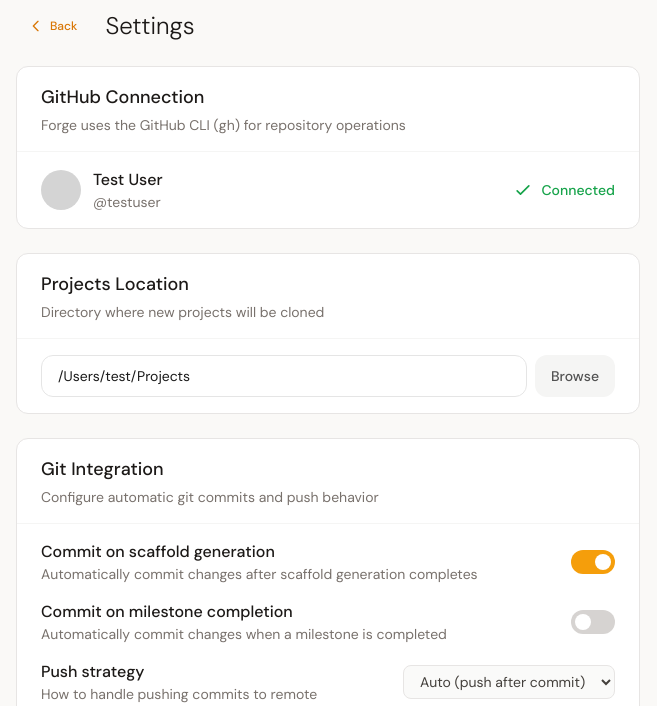
Test: SettingsPage › should show Save Changes button when clone root is modified
Note: Change the clone root value
Replace the text in the field with placeholder "~/Projects" with "/new/path" at point(284, 376), box [41,355,527,397]
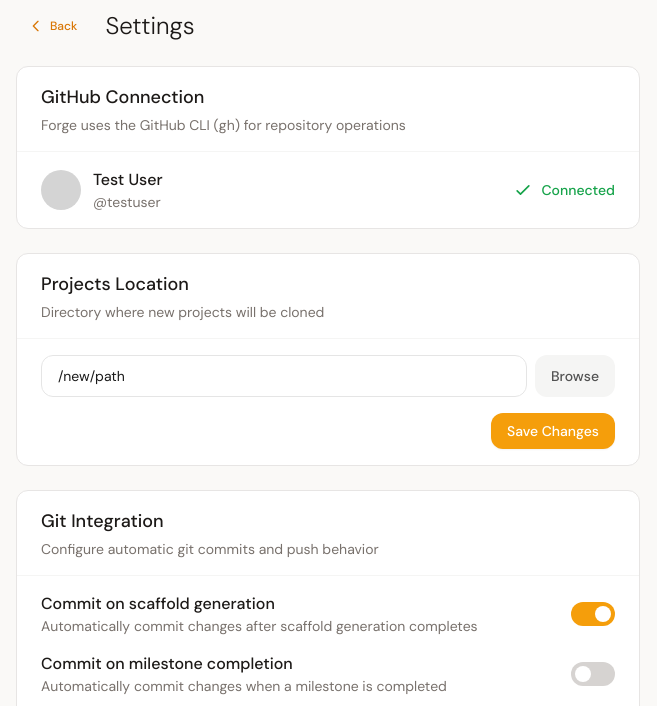
expect the text "Save Changes" is shown: met, box [507,421,599,441]
